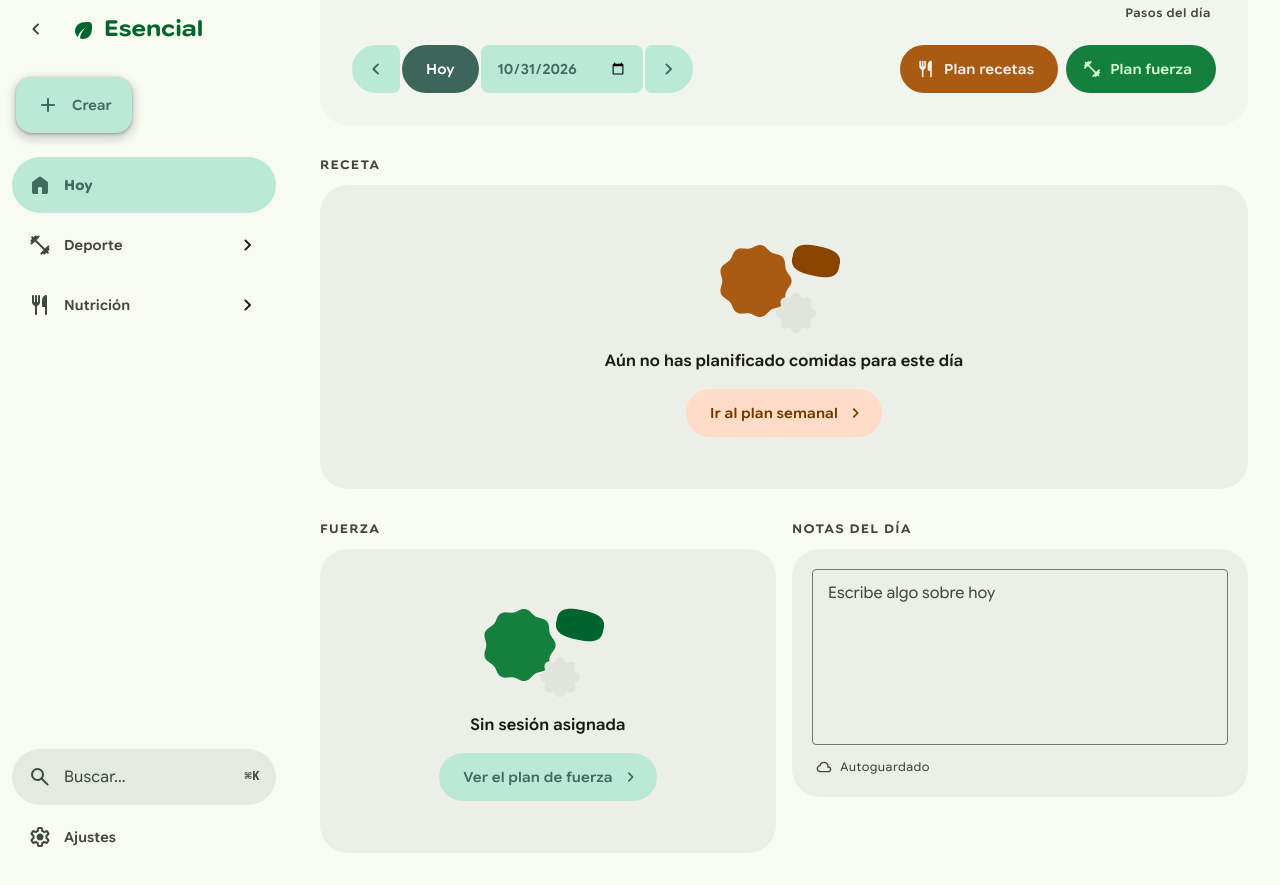
sección NOTAS con autosave › PUT fallido → indicador de error con reintento y texto preservado
(page scrolled)
In the text box: (1020, 657) [812,569,1228,745], type "no guarda"
Wait 800 ms
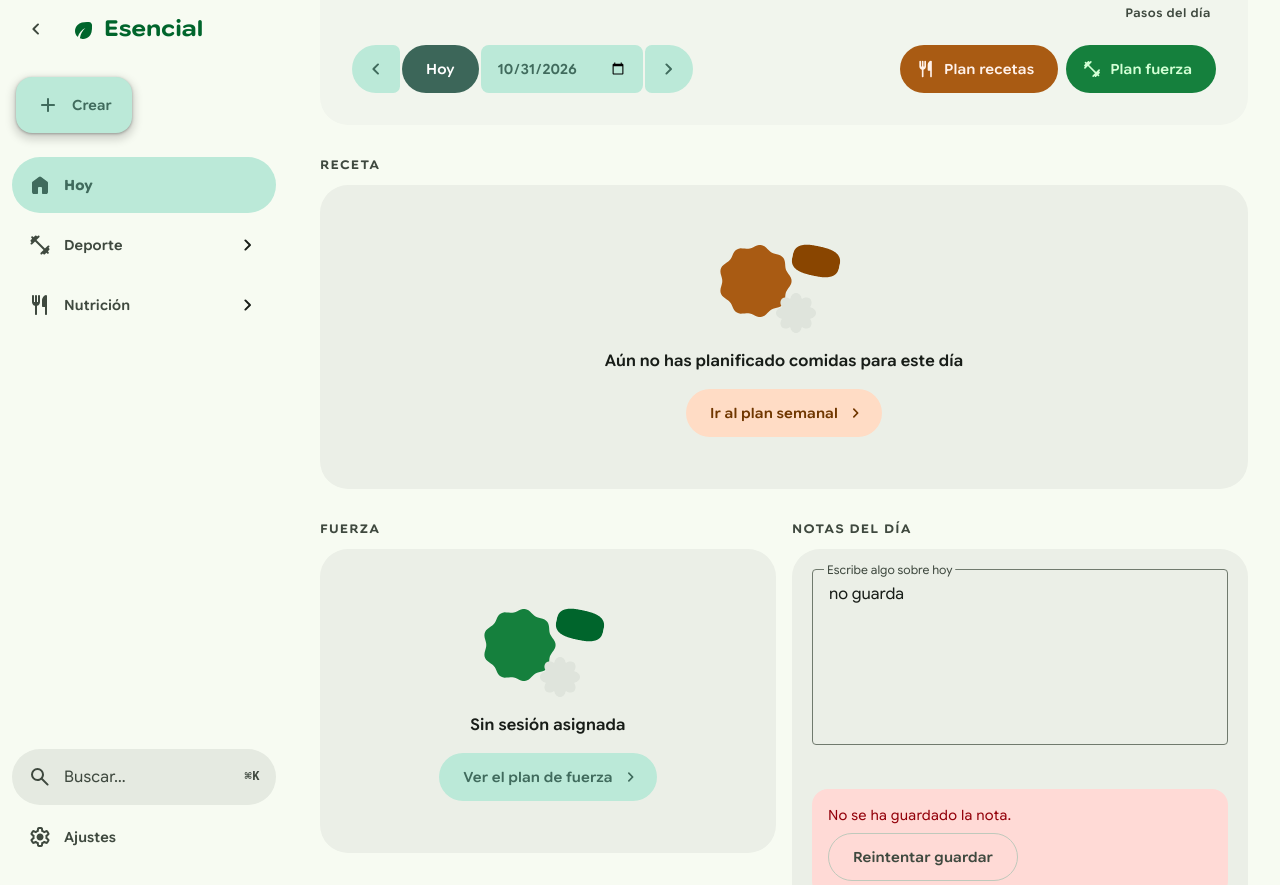
Expected: the button "Reintentar guardar" is shown, [828,833,1018,881]
